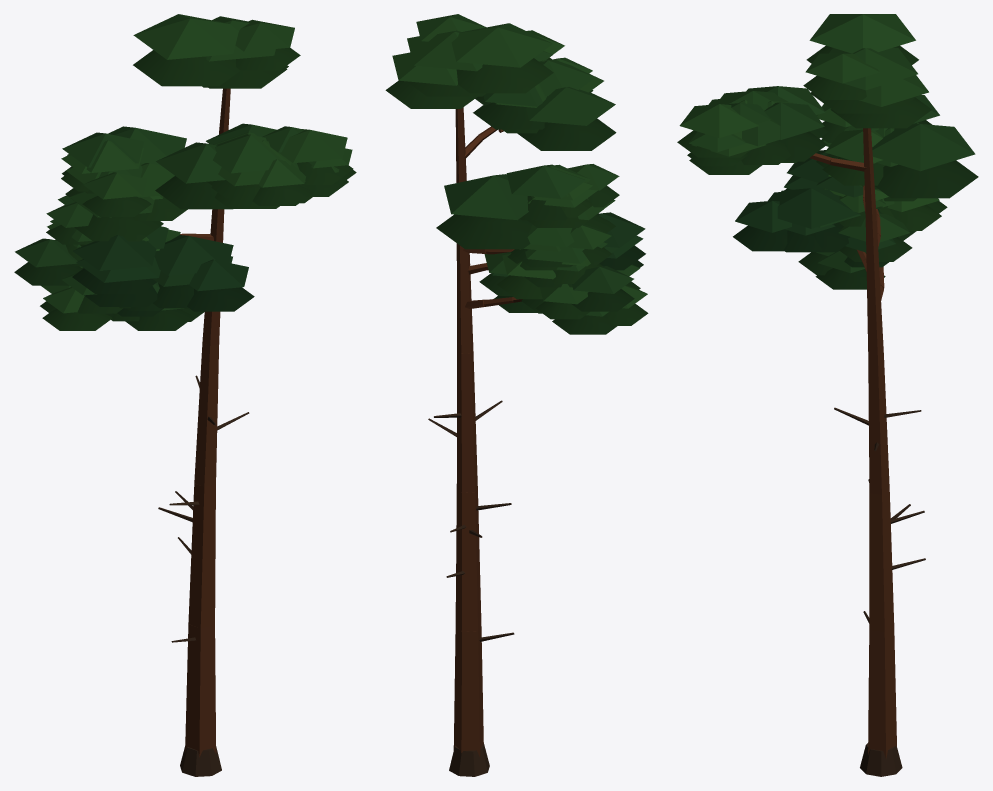
The model's file is tree_pine_1_mid.glb.
3 views of the same model, side by side, from view 1: azimuth 30°, elevation 25°; view 2: azimuth 150°, elevation 25°; view 3: azimuth 270°, elevation 25° (orthographic). The views are drawn at different scales.
Visible parts, largest first — view 1: leaf, wood; view 2: leaf, wood; view 3: leaf, wood.
Boxes of the visible parts, x1,y1,x2,y2 form: leaf: [14, 14, 356, 330]; wood: [158, 88, 249, 776]; leaf: [385, 14, 648, 334]; wood: [428, 107, 522, 776]; leaf: [677, 14, 978, 289]; wood: [810, 128, 925, 776].
Bounding box in the file's own units: 5.51 × 16.12 × 5.92.
